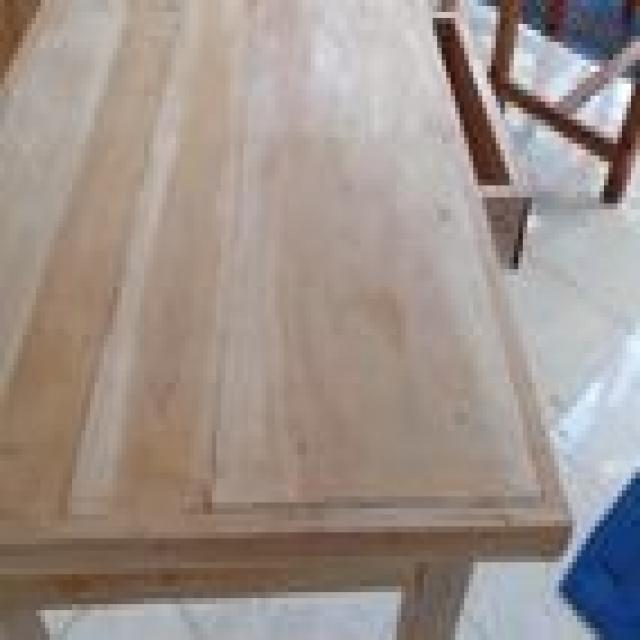others: (4, 6, 577, 634)
